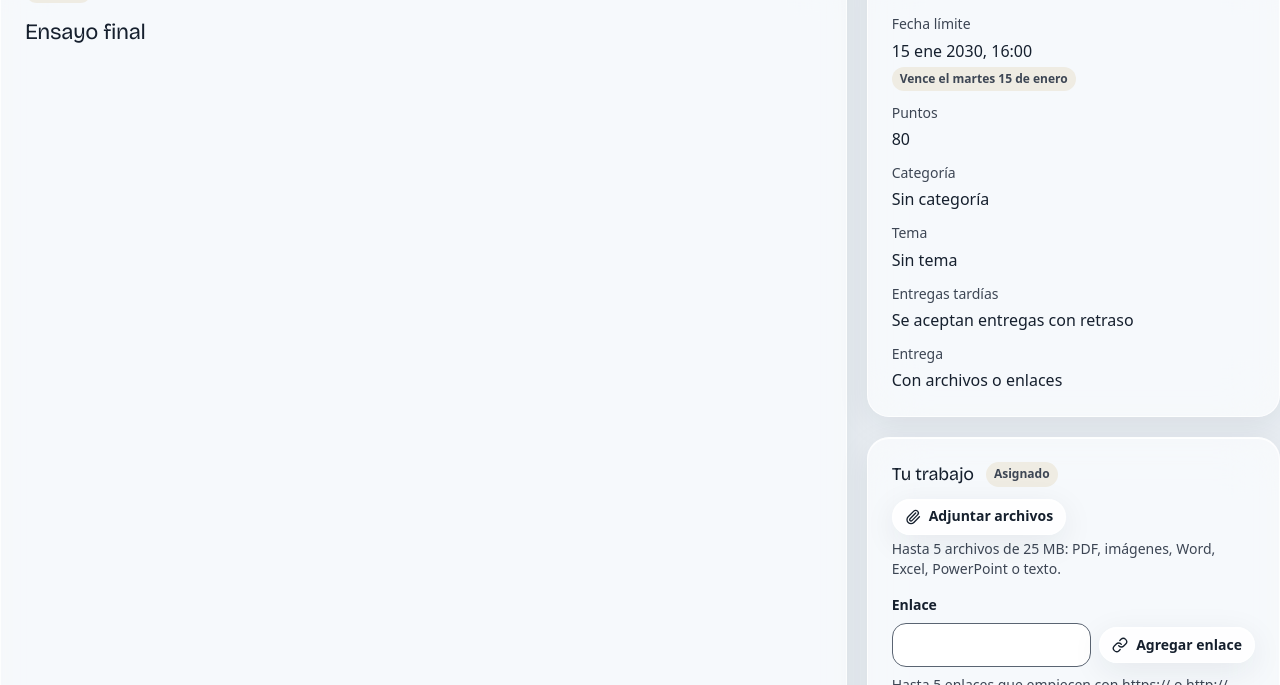
Test: ataque ENTREGAS-01d r2: cada código al entregar (qué renueva, qué anuncia, foco) › 409 ENTREGA_CERRADA: renueva tarea y entrega una vez (true), 1 aviso, foco fuera de <body>
In the field labelled "Enlace": (991, 645) [892,623,1091,667], type "https://ejemplo.com/a"
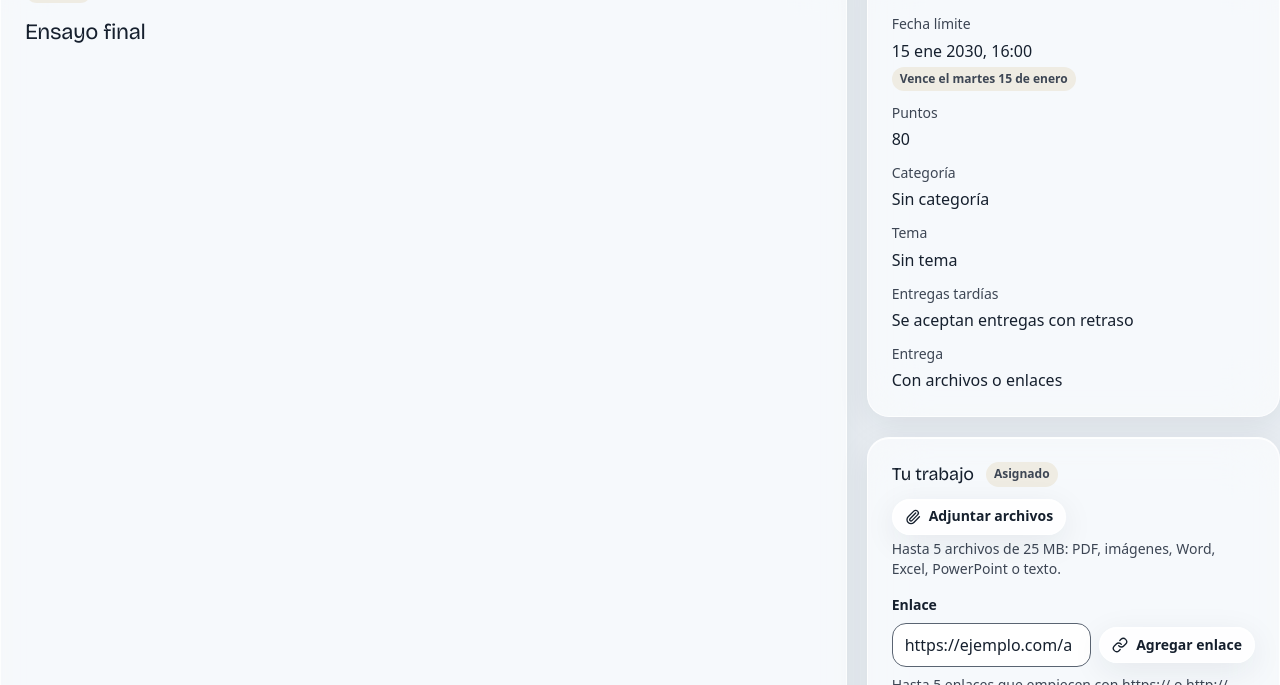
Click the button "Agregar enlace": (1177, 645) [1099,627,1255,663]
(page scrolled)
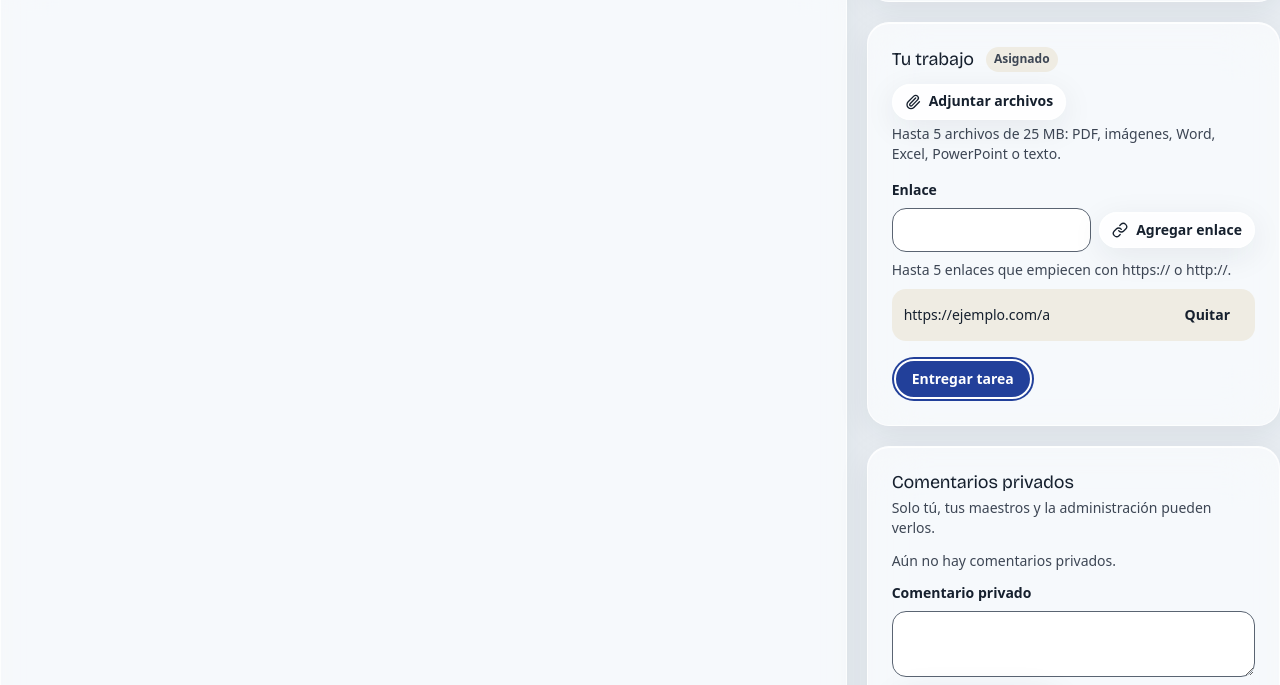
Click the button "Entregar tarea": (963, 379) [892,357,1034,401]
(page scrolled)
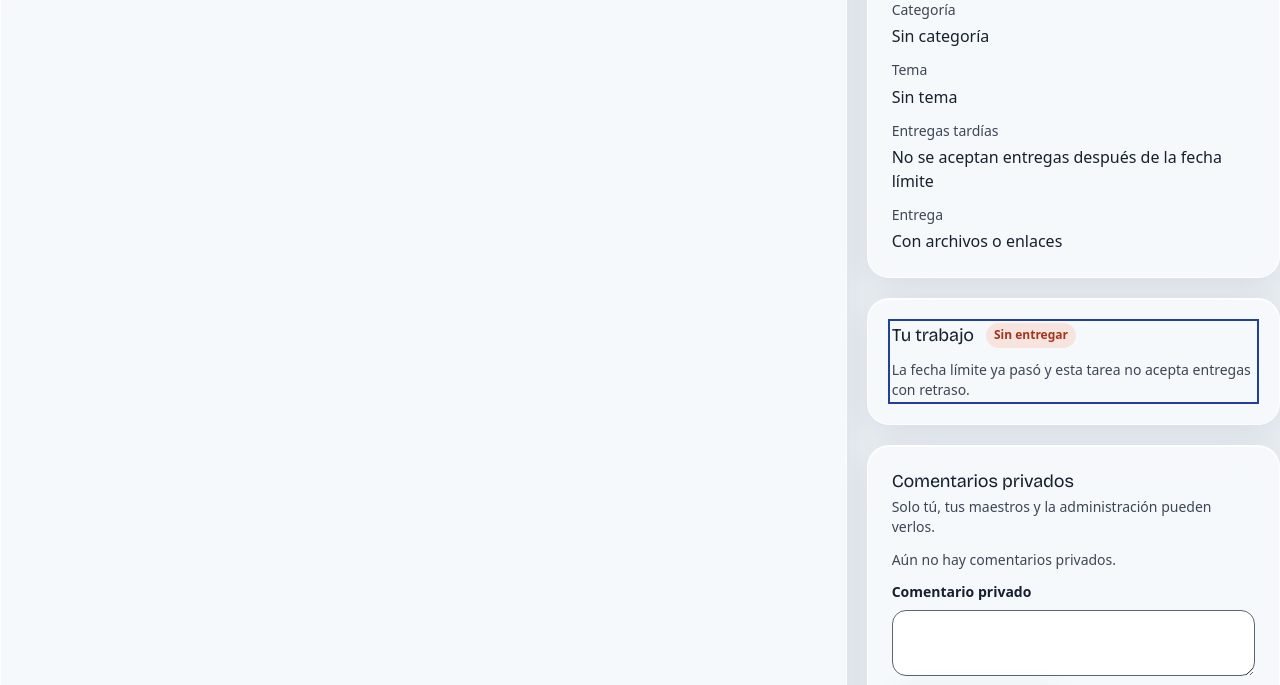
Check: the element "Tu trabajo" is shown, box [892,323,1255,400]
Check: the text "La fecha límite ya pasó y esta tarea no acepta entregas con retraso." is shown, box [892,360,1255,400]
Check: the text "Asignado" is gone
